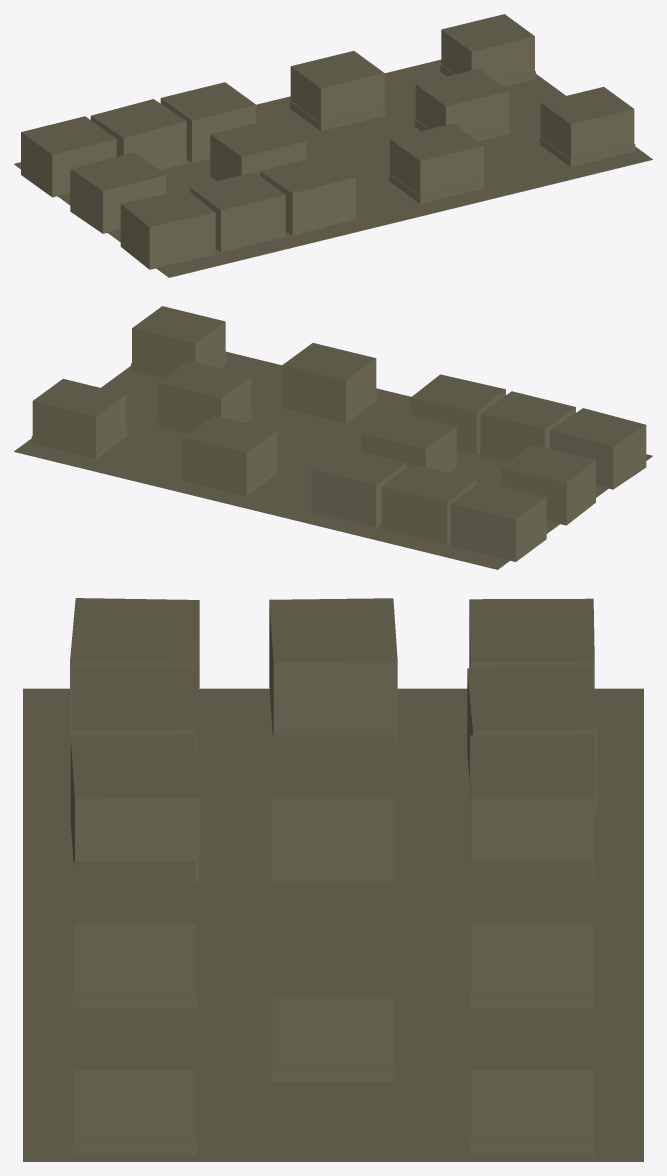
File: SM_AcopioViveres_v4_Quemado_LOD1.fbx
The picture shows the model from 3 angles, top to bottom: view 1: azimuth 30°, elevation 25°; view 2: azimuth 150°, elevation 25°; view 3: azimuth 270°, elevation 25°; orthographic projection. The views are drawn at different scales.
Parts seen in each view (by area): view 1: SM_acopio_viveres_v4_LOD1; view 2: SM_acopio_viveres_v4_LOD1; view 3: SM_acopio_viveres_v4_LOD1.
Boxes of the visible parts, left/top/right/bottom form: SM_acopio_viveres_v4_LOD1: left=14, top=14, right=652, bottom=277; SM_acopio_viveres_v4_LOD1: left=14, top=306, right=652, bottom=569; SM_acopio_viveres_v4_LOD1: left=23, top=598, right=643, bottom=1161.
Bounding box in the file's own units: 9.12 × 0.765 × 5.
